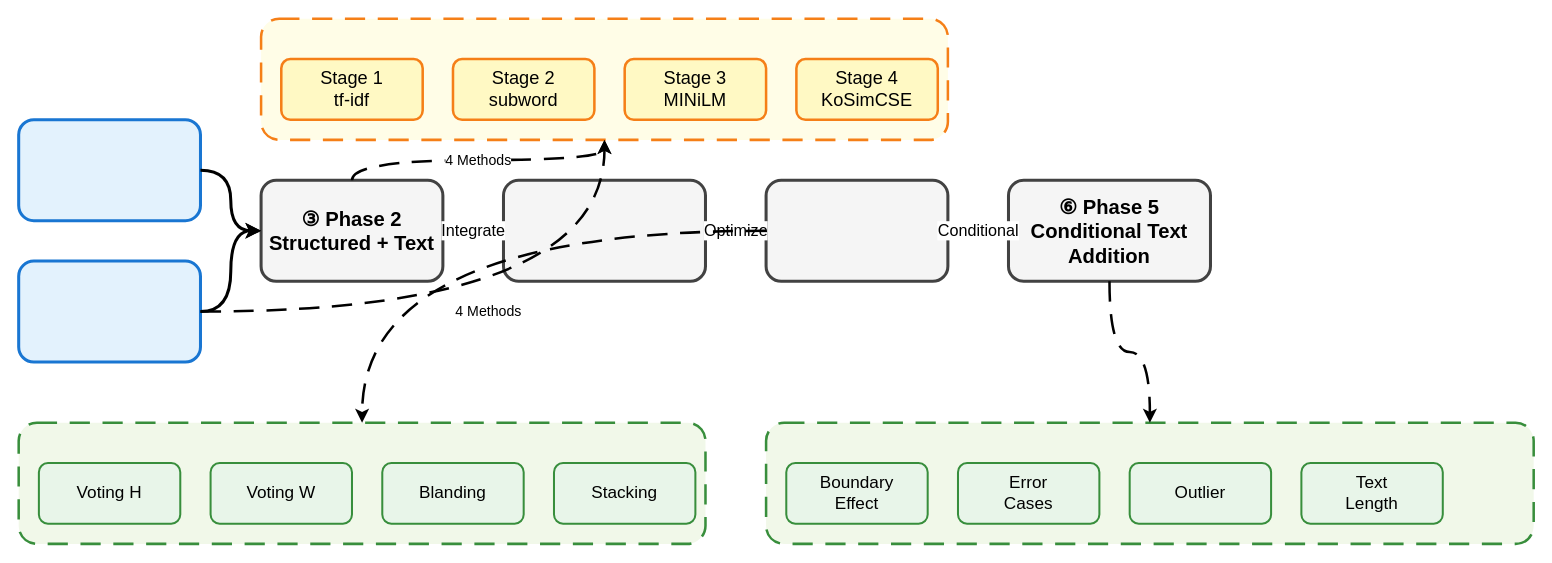
This 1552x563 diagram has some shape labels left out. The box of each missing label's shape, as (x1, y1, x2, y2) in pixels:
Phase 4 Techniques: (17, 421, 706, 545)
Phase 5 Techniques: (764, 421, 1534, 545)
Text Embedding Methods: (259, 17, 949, 141)
① Phase 0 Structured Only: (17, 118, 201, 222)
② Phase 1 Text Only: (17, 259, 201, 363)
④ Phase 3 Hyperparameter Tuning: (501, 178, 706, 282)
⑤ Phase 4 Ensemble: (764, 178, 949, 282)
